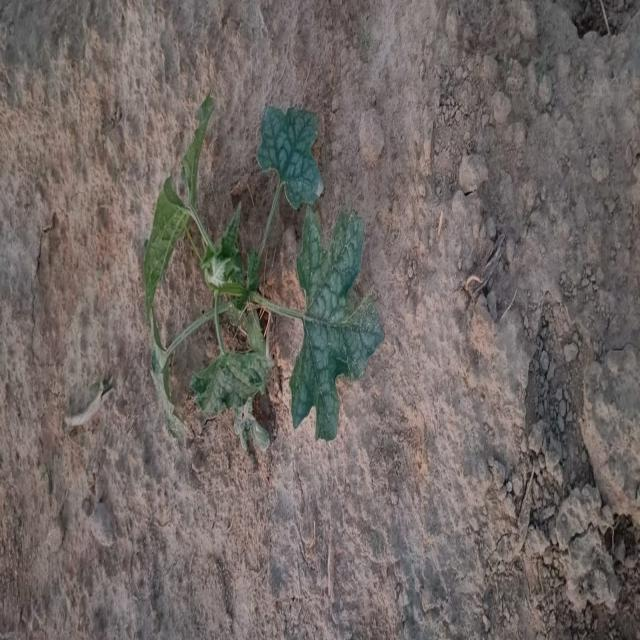plant: (144, 95, 384, 449), (258, 107, 322, 250)
